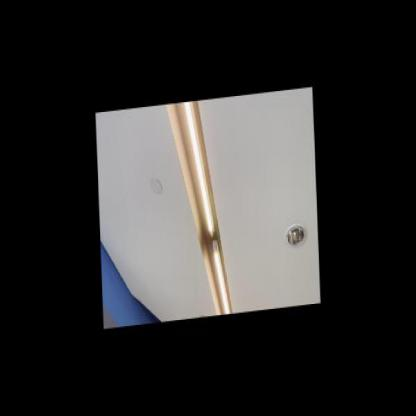light_on: (179, 98, 218, 244), (209, 239, 232, 316)
